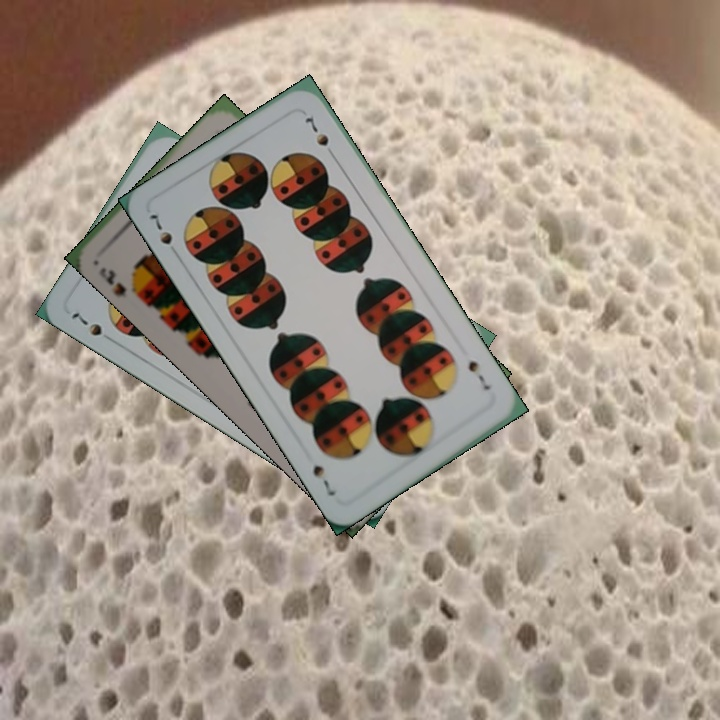S7: (67, 308, 105, 339), (146, 210, 175, 248), (464, 356, 493, 393)
S9: (95, 263, 139, 301)
